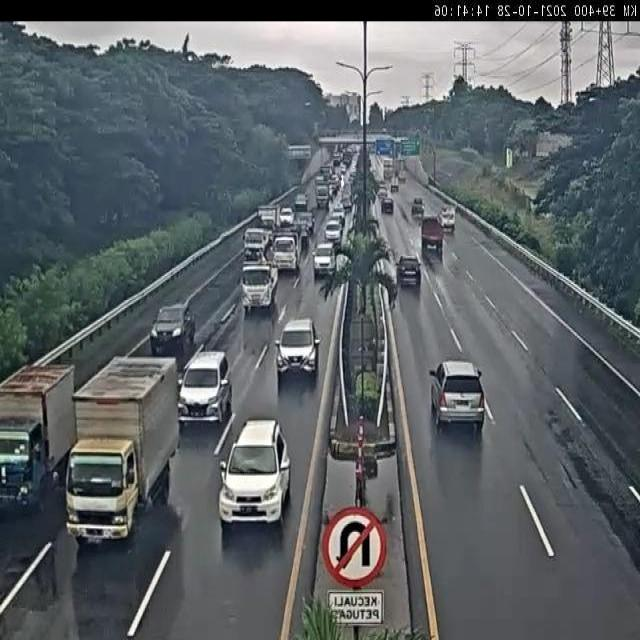Car: (213, 414, 297, 538), (179, 340, 234, 433), (430, 359, 484, 433), (275, 316, 321, 384), (150, 301, 194, 359), (312, 242, 338, 278), (396, 255, 422, 288), (324, 218, 344, 245), (278, 206, 295, 228), (411, 197, 425, 219), (380, 193, 394, 214)
Truck: (62, 358, 178, 541), (0, 355, 84, 506), (240, 260, 280, 312), (270, 233, 300, 273), (421, 217, 444, 259), (242, 227, 270, 260), (312, 174, 331, 210)
